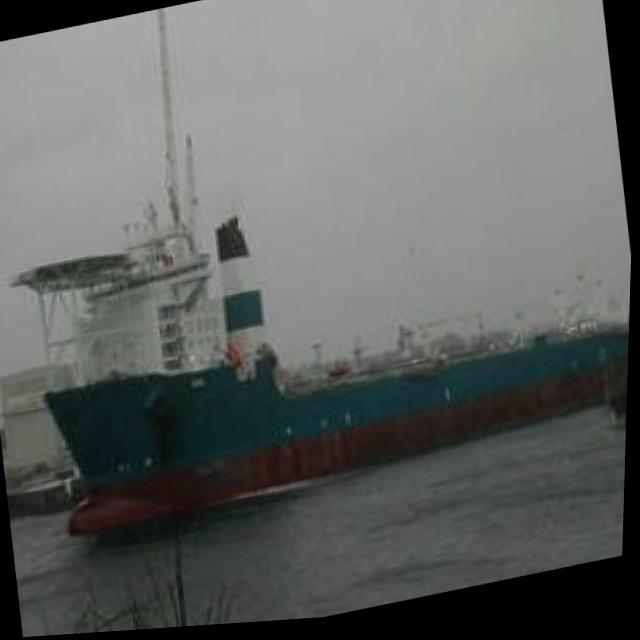ship2: (14, 10, 631, 541)
